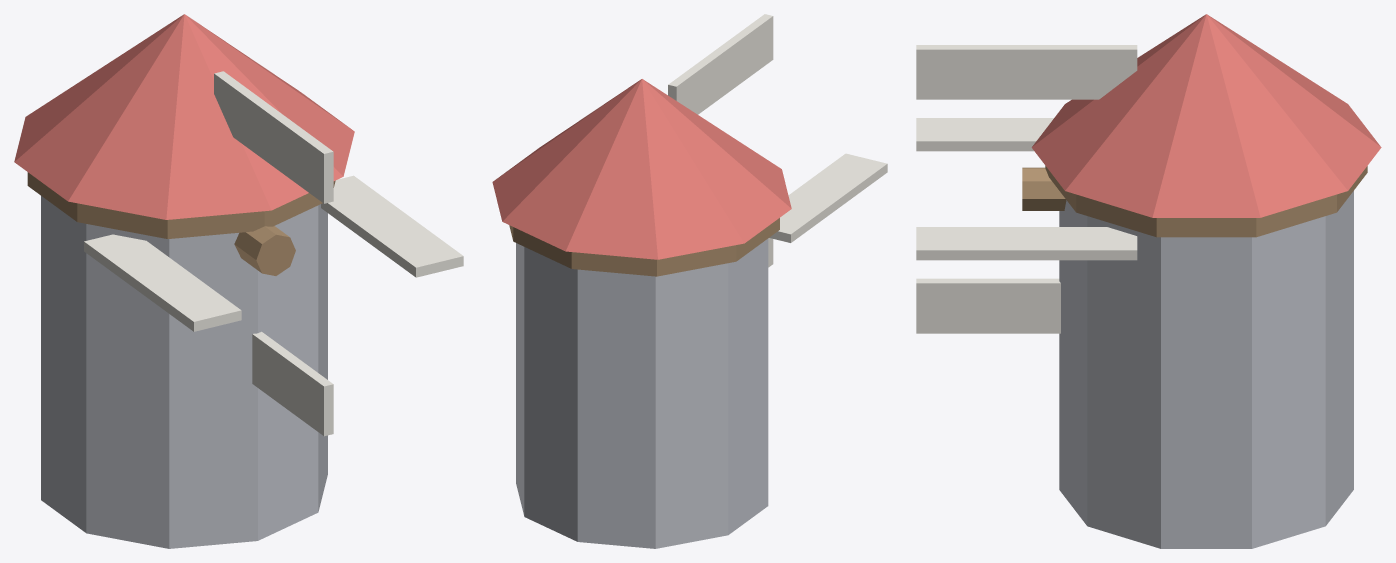
Rendered from gen_windmill.glb.
3 views of the same model, side by side, from view 1: azimuth 30°, elevation 25°; view 2: azimuth 150°, elevation 25°; view 3: azimuth 270°, elevation 25° (orthographic). The views are drawn at different scales.
Visible parts, largest first — view 1: Cylinder, Cone, Cube, Cube.003, Cube.001, Cylinder.001, Cube.002, Cylinder.002; view 2: Cylinder, Cone, Cube, Cube.003, Cylinder.001; view 3: Cylinder, Cone, Cube, Cube.002, Cube.001, Cylinder.001, Cube.003, Cylinder.002.
Boxes of the visible parts, bbox=[...] form: Cylinder: bbox=[41, 196, 327, 548]; Cone: bbox=[14, 14, 354, 219]; Cube: bbox=[214, 71, 333, 203]; Cube.003: bbox=[84, 234, 241, 331]; Cube.001: bbox=[321, 175, 463, 277]; Cylinder.001: bbox=[27, 172, 335, 238]; Cube.002: bbox=[252, 331, 333, 436]; Cylinder.002: bbox=[234, 226, 295, 275]; Cylinder: bbox=[516, 238, 768, 548]; Cone: bbox=[492, 79, 791, 259]; Cube: bbox=[668, 14, 773, 114]; Cube.003: bbox=[769, 153, 887, 242]; Cylinder.001: bbox=[509, 218, 779, 276]; Cylinder: bbox=[1059, 191, 1353, 548]; Cone: bbox=[1031, 14, 1381, 217]; Cube: bbox=[916, 45, 1137, 99]; Cube.002: bbox=[916, 278, 1060, 333]; Cube.001: bbox=[916, 227, 1137, 260]; Cylinder.001: bbox=[1045, 166, 1367, 237]; Cube.003: bbox=[916, 118, 1053, 151]; Cylinder.002: bbox=[1022, 167, 1066, 210].
Bounding box in the file's own units: 3.61 × 5.7 × 5.05.
